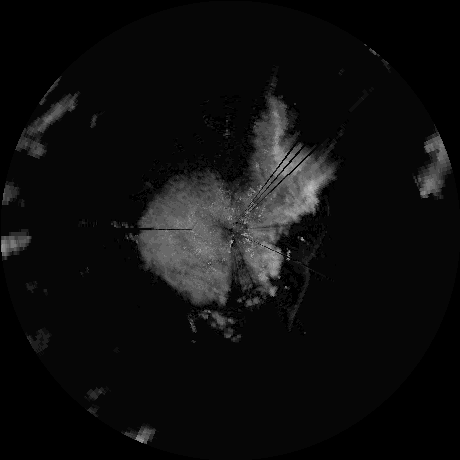frontgust: (291, 240, 319, 316)
